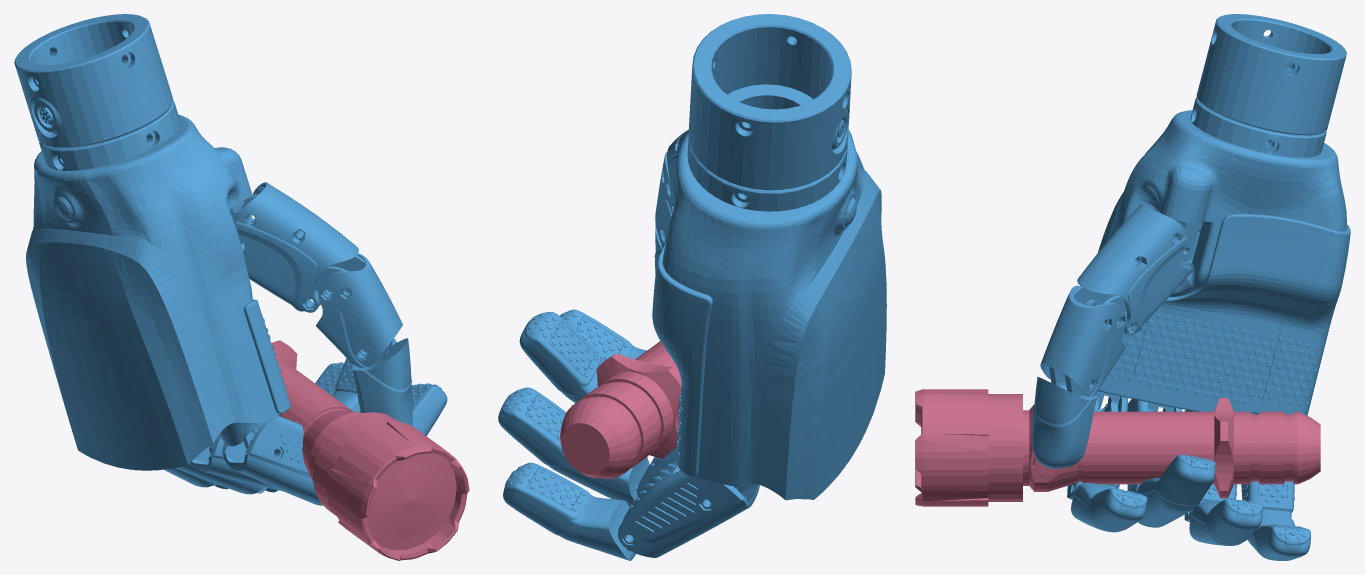
The picture shows the model from 3 angles, left to right: view 1: azimuth 30°, elevation 25°; view 2: azimuth 150°, elevation 25°; view 3: azimuth 270°, elevation 25°; orthographic projection. The views are drawn at different scales.
Parts seen in each view (by area): view 1: 0; view 2: 0; view 3: 0.
Boxes of the visible parts, bbox=[...] form: 0: bbox=[14, 14, 469, 560]; 0: bbox=[498, 14, 886, 560]; 0: bbox=[915, 14, 1350, 560].
Size of the model in its own units: 0.1382 by 0.1915 by 0.1607.
